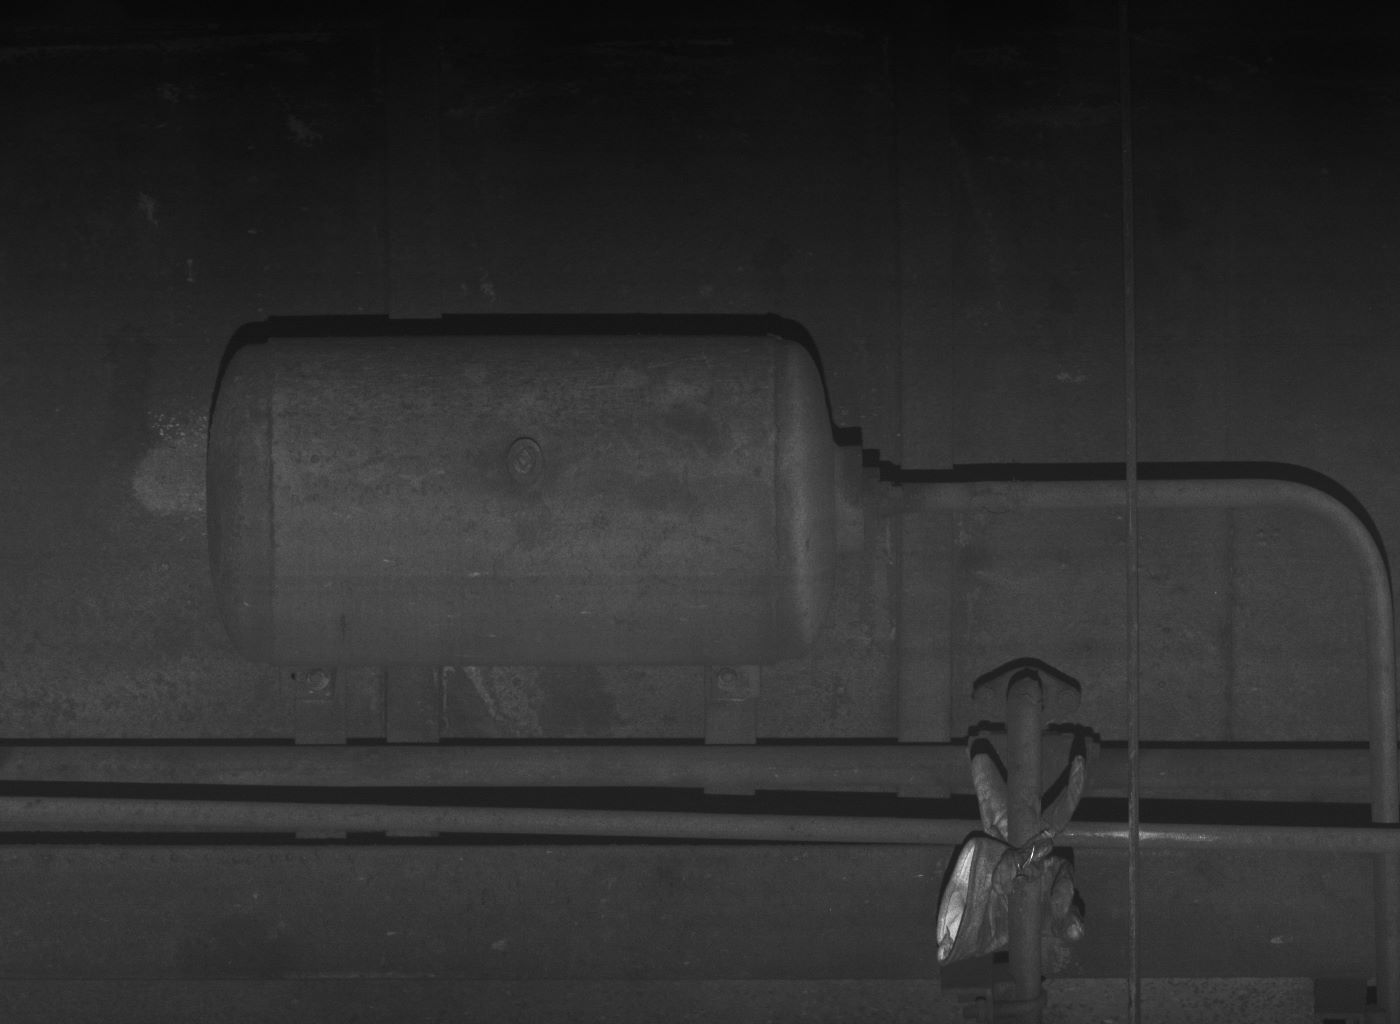normal: (1007, 676, 1041, 1007)
